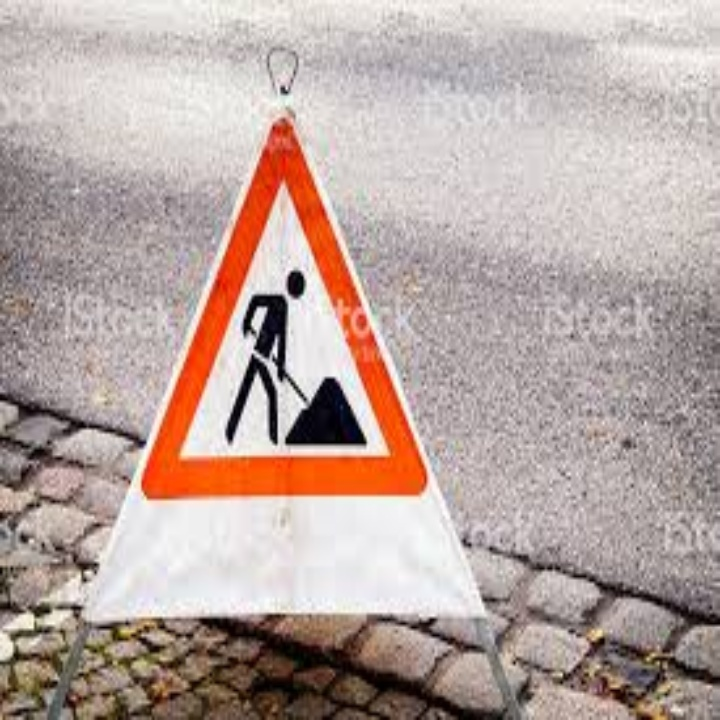const: (211, 269, 373, 449)
